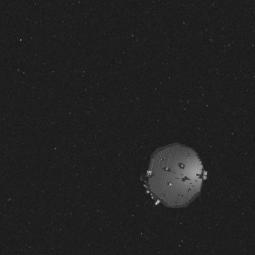lisa_pathfinder: (126, 141, 214, 221)
